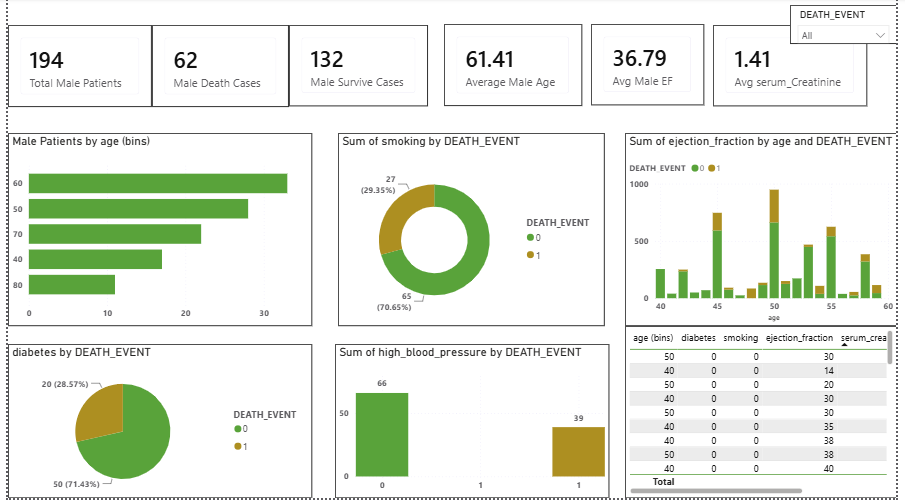

The page's visual inventory and layout, read from the dashboard file:
{"tool":"powerbi","page":{"name":"Male","canvas":[1280,720],"ordinal":1},"visuals":[{"type":"cardVisual","fields":{"Data":["heart_failure_clinical_records_dataset.Total Male Patients"]},"box":[0,38.9,207.4,118.1],"z":0},{"type":"cardVisual","fields":{"Data":["heart_failure_clinical_records_dataset.Male Death Cases"]},"box":[207.4,38.9,197.3,118.1],"z":1000},{"type":"cardVisual","fields":{"Data":["heart_failure_clinical_records_dataset.Male Survive Cases"]},"box":[404.6,38.9,200.2,116.6],"z":2000},{"type":"cardVisual","fields":{"Data":["heart_failure_clinical_records_dataset.Average Male Age"]},"box":[627.8,37.4,198.7,118.1],"z":3000},{"type":"cardVisual","fields":{"Data":["heart_failure_clinical_records_dataset.Avg Male EF"]},"box":[839.5,37.4,162.7,116.6],"z":4000},{"type":"barChart","fields":{"Y":["heart_failure_clinical_records_dataset.Total Male Patients"],"Category":["heart_failure_clinical_records_dataset.age (bins)"]},"box":[0,194.4,437.8,277.9],"z":5000},{"type":"pieChart","fields":{"Y":["Sum(heart_failure_clinical_records_dataset.diabetes)"],"Category":["heart_failure_clinical_records_dataset.DEATH_EVENT"]},"box":[0,498.2,437.8,221.8],"z":6000},{"type":"donutChart","fields":{"Y":["Sum(heart_failure_clinical_records_dataset.smoking)"],"Category":["heart_failure_clinical_records_dataset.DEATH_EVENT"]},"box":[475.2,194.4,384.5,277.9],"z":7000},{"type":"columnChart","fields":{"Category":["heart_failure_clinical_records_dataset.DEATH_EVENT"],"Y":["Sum(heart_failure_clinical_records_dataset.high_blood_pressure)"]},"box":[470.9,498.2,394.6,221.8],"z":8000},{"type":"columnChart","fields":{"Category":["heart_failure_clinical_records_dataset.age"],"Y":["Sum(heart_failure_clinical_records_dataset.ejection_fraction)"],"Series":["heart_failure_clinical_records_dataset.DEATH_EVENT"]},"box":[888.5,194.4,391.7,277.9],"z":9000},{"type":"tableEx","fields":{"Values":["heart_failure_clinical_records_dataset.age (bins)","heart_failure_clinical_records_dataset.diabetes","heart_failure_clinical_records_dataset.smoking","heart_failure_clinical_records_dataset.ejection_fraction","heart_failure_clinical_records_dataset.serum_creatinine","Sum(heart_failure_clinical_records_dataset.DEATH_EVENT)"]},"box":[888.5,472.3,391.7,247.7],"z":10000},{"type":"cardVisual","fields":{"Data":["heart_failure_clinical_records_dataset.Avg serum_Creatinine"]},"box":[1015.2,38.9,221.8,116.6],"z":11000},{"type":"slicer","fields":{"Values":["heart_failure_clinical_records_dataset.DEATH_EVENT"]},"box":[1126.1,10.1,154.1,56.2],"z":12000}]}

Visuals, with their boxes in screenshot pixels (x1, y1, x2, y2), scaled from the page's 1280x720 canvas onto the 905x501 screenshot:
cardVisual - heart_failure_clinical_records_dataset.Total Male Patients: (0, 27, 147, 109)
cardVisual - heart_failure_clinical_records_dataset.Male Death Cases: (147, 27, 286, 109)
cardVisual - heart_failure_clinical_records_dataset.Male Survive Cases: (286, 27, 428, 108)
cardVisual - heart_failure_clinical_records_dataset.Average Male Age: (444, 26, 584, 108)
cardVisual - heart_failure_clinical_records_dataset.Avg Male EF: (594, 26, 709, 107)
barChart - heart_failure_clinical_records_dataset.Total Male Patients x heart_failure_clinical_records_dataset.age (bins): (0, 135, 310, 329)
pieChart - Sum(heart_failure_clinical_records_dataset.diabetes) x heart_failure_clinical_records_dataset.DEATH_EVENT: (0, 347, 310, 500)
donutChart - Sum(heart_failure_clinical_records_dataset.smoking) x heart_failure_clinical_records_dataset.DEATH_EVENT: (336, 135, 608, 329)
columnChart - heart_failure_clinical_records_dataset.DEATH_EVENT x Sum(heart_failure_clinical_records_dataset.high_blood_pressure): (333, 347, 612, 500)
columnChart - heart_failure_clinical_records_dataset.age x Sum(heart_failure_clinical_records_dataset.ejection_fraction): (628, 135, 904, 329)
tableEx - heart_failure_clinical_records_dataset.age (bins) x heart_failure_clinical_records_dataset.diabetes: (628, 329, 904, 500)
cardVisual - heart_failure_clinical_records_dataset.Avg serum_Creatinine: (718, 27, 875, 108)
slicer - heart_failure_clinical_records_dataset.DEATH_EVENT: (796, 7, 904, 46)
